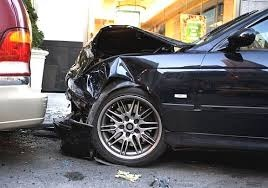Dent: (58, 29, 185, 155)
